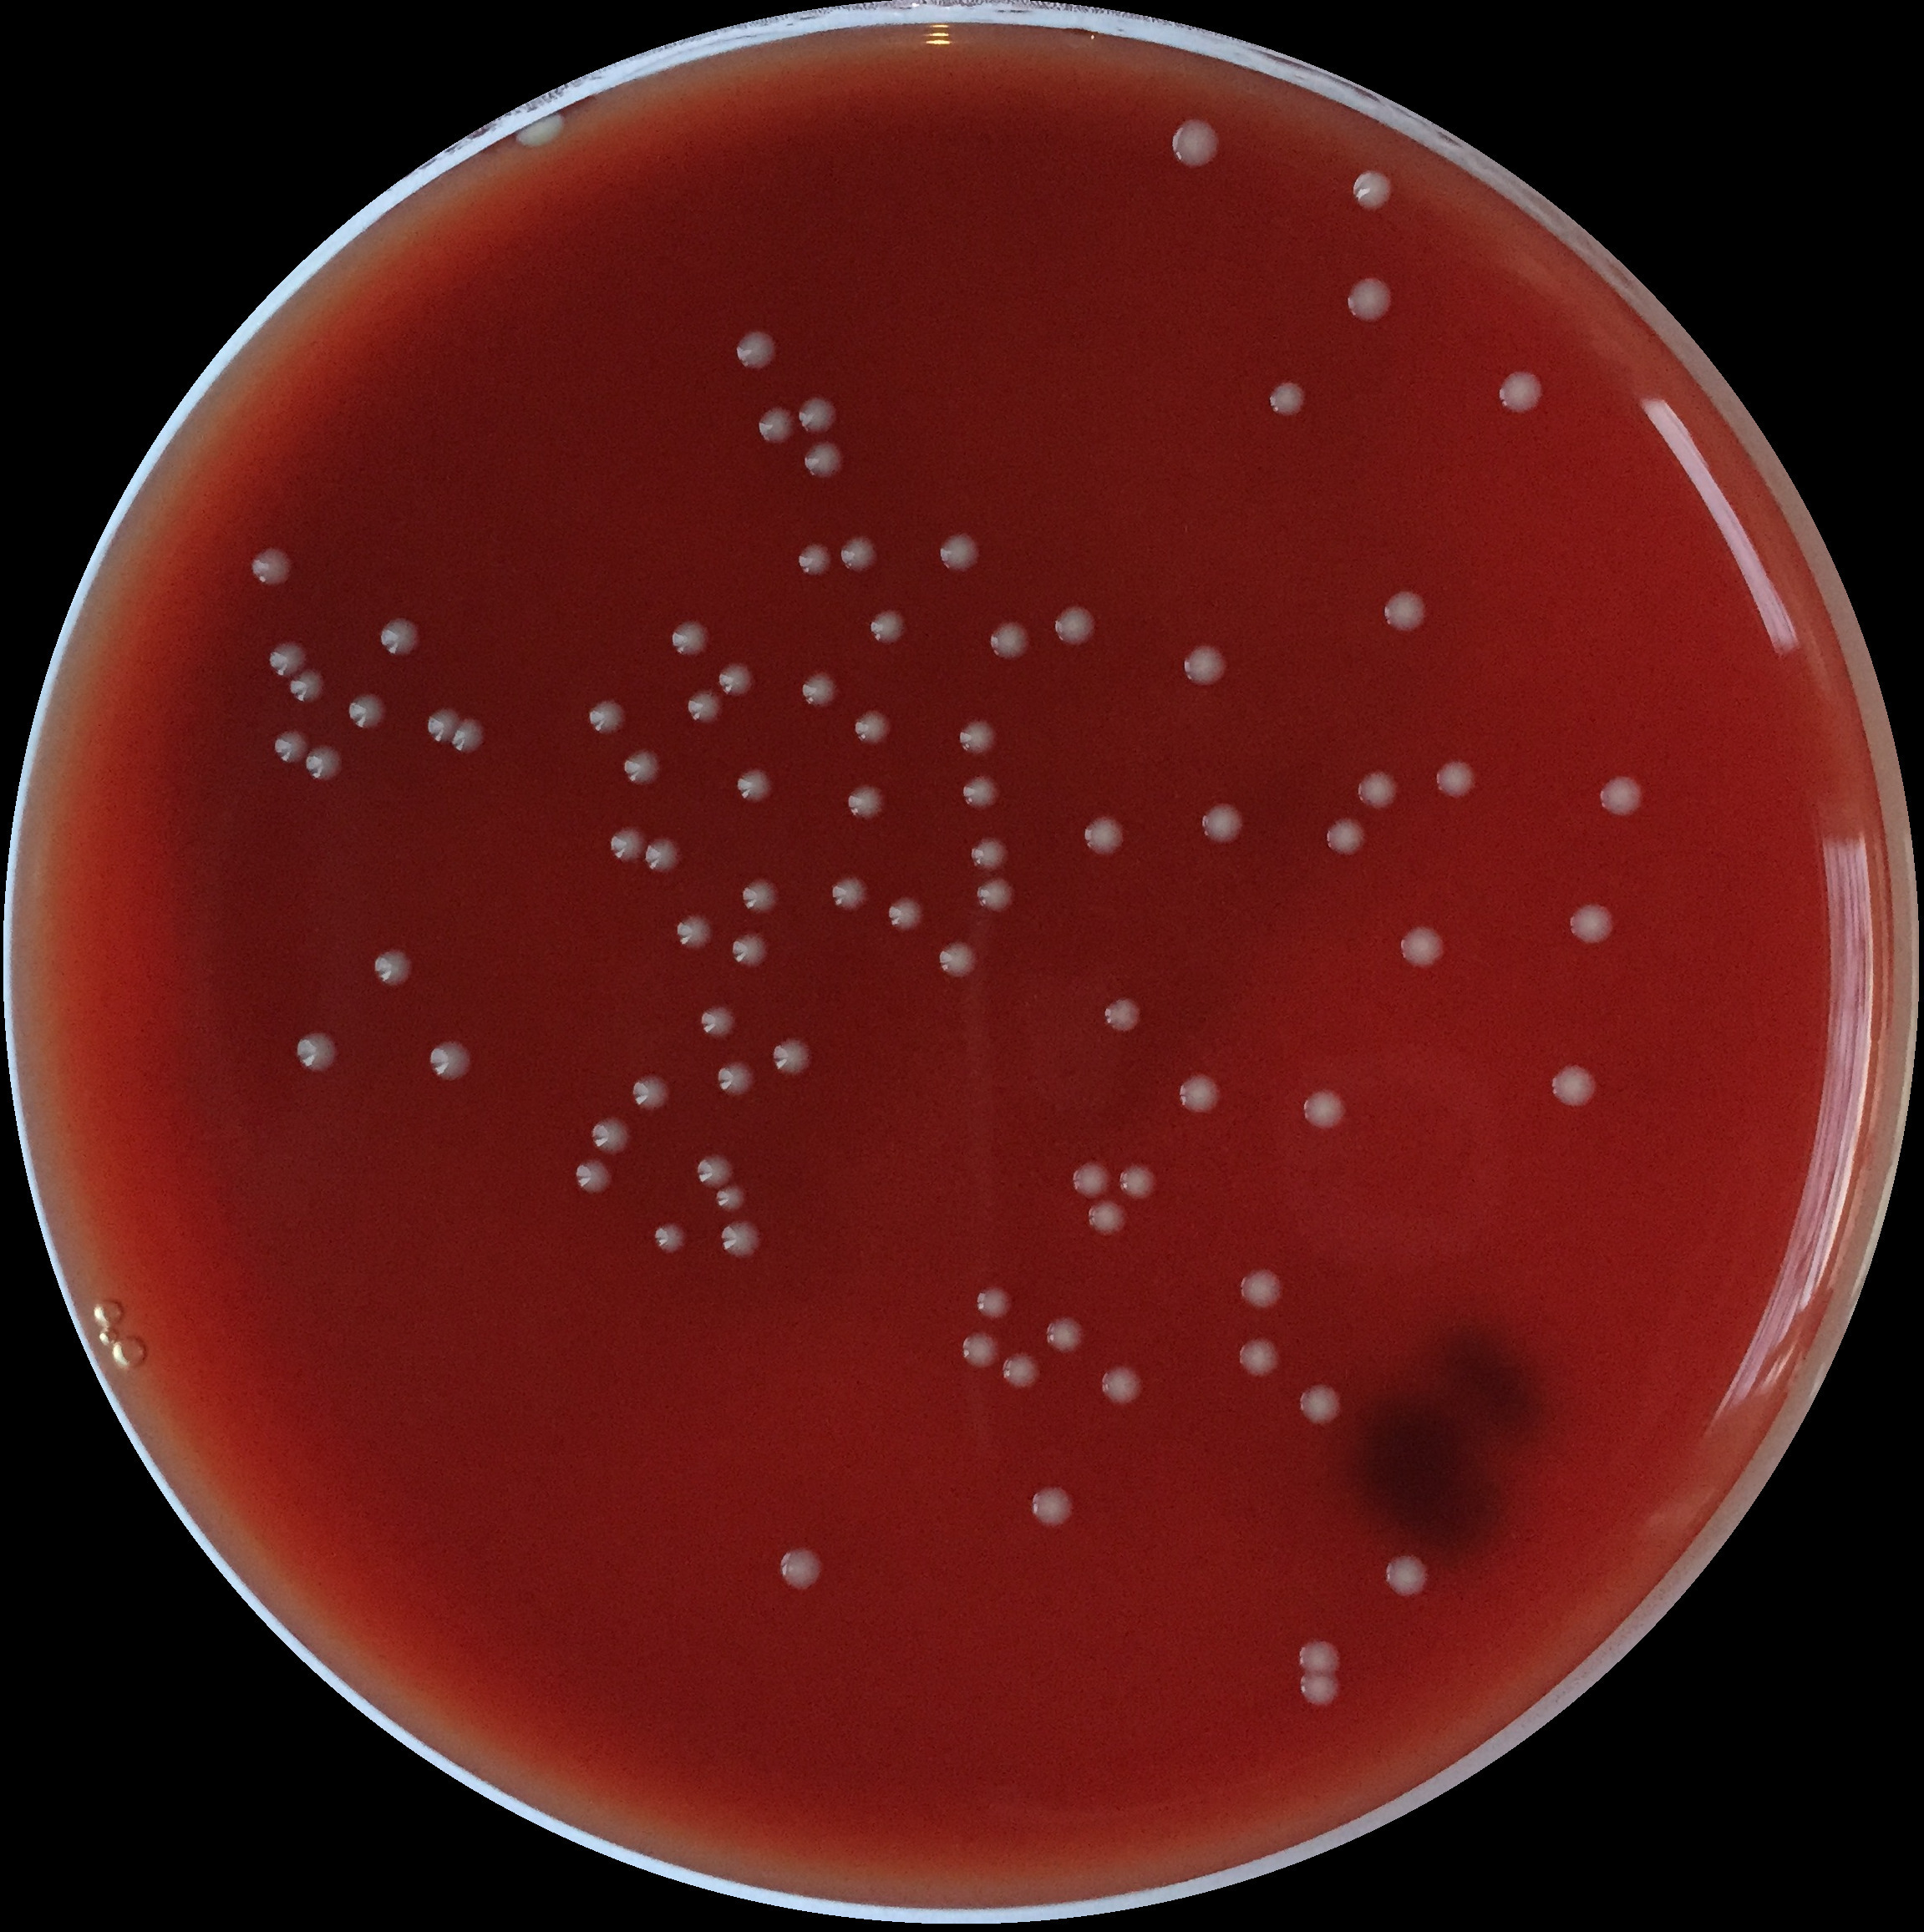sp21: (1545, 1057, 1600, 1115), (1166, 116, 1223, 169), (1022, 1483, 1082, 1532), (1230, 1263, 1286, 1314), (1492, 368, 1545, 419), (1351, 764, 1404, 814), (1048, 602, 1103, 650), (1348, 166, 1399, 215), (1343, 277, 1394, 326), (1394, 925, 1447, 972), (662, 618, 721, 660), (1177, 643, 1232, 687), (1196, 800, 1246, 847), (1175, 1071, 1226, 1117), (1297, 1379, 1343, 1430), (1098, 1363, 1149, 1409), (1378, 590, 1431, 634), (1297, 1087, 1344, 1134), (983, 618, 1032, 664), (1568, 898, 1614, 948), (793, 391, 839, 440), (1235, 1335, 1284, 1381), (862, 602, 907, 650), (1432, 757, 1480, 803), (712, 1060, 761, 1104), (291, 1030, 340, 1074), (777, 1548, 826, 1592), (1383, 1552, 1429, 1597), (1596, 773, 1644, 817), (766, 1036, 814, 1080), (1318, 815, 1371, 854), (1080, 812, 1124, 858), (953, 715, 999, 759), (825, 875, 870, 919), (514, 111, 567, 148), (844, 784, 888, 828), (587, 696, 631, 740), (248, 546, 294, 588), (377, 613, 423, 655), (717, 657, 759, 703), (1068, 1159, 1114, 1201), (1115, 1161, 1161, 1203), (1040, 1314, 1085, 1356), (997, 1347, 1040, 1393), (934, 939, 981, 979), (800, 440, 847, 481), (731, 329, 779, 370), (372, 948, 419, 988), (571, 1157, 620, 1196), (426, 1039, 470, 1081), (264, 639, 308, 682), (1263, 380, 1311, 419), (964, 835, 1011, 874), (1295, 1671, 1343, 1710), (627, 1073, 670, 1115), (960, 1328, 1003, 1370), (618, 747, 662, 787), (641, 837, 685, 877), (270, 727, 314, 768), (752, 405, 796, 446), (1087, 1198, 1131, 1238), (955, 775, 1003, 812), (851, 710, 899, 747), (673, 912, 714, 955), (719, 1217, 761, 1257), (796, 669, 840, 708), (728, 930, 772, 969), (287, 664, 326, 708), (1297, 1640, 1341, 1678), (694, 1152, 740, 1189), (1099, 995, 1140, 1036), (884, 893, 925, 933), (738, 877, 781, 916), (444, 715, 486, 754), (301, 743, 344, 782), (835, 535, 879, 572), (604, 826, 648, 863), (421, 701, 458, 745), (592, 1113, 629, 1157), (682, 689, 728, 724), (733, 766, 772, 807), (698, 1002, 736, 1043), (345, 694, 386, 733), (793, 541, 835, 578), (974, 1284, 1017, 1321), (936, 532, 978, 567), (974, 877, 1017, 911), (712, 1180, 749, 1215), (648, 1222, 687, 1252)
